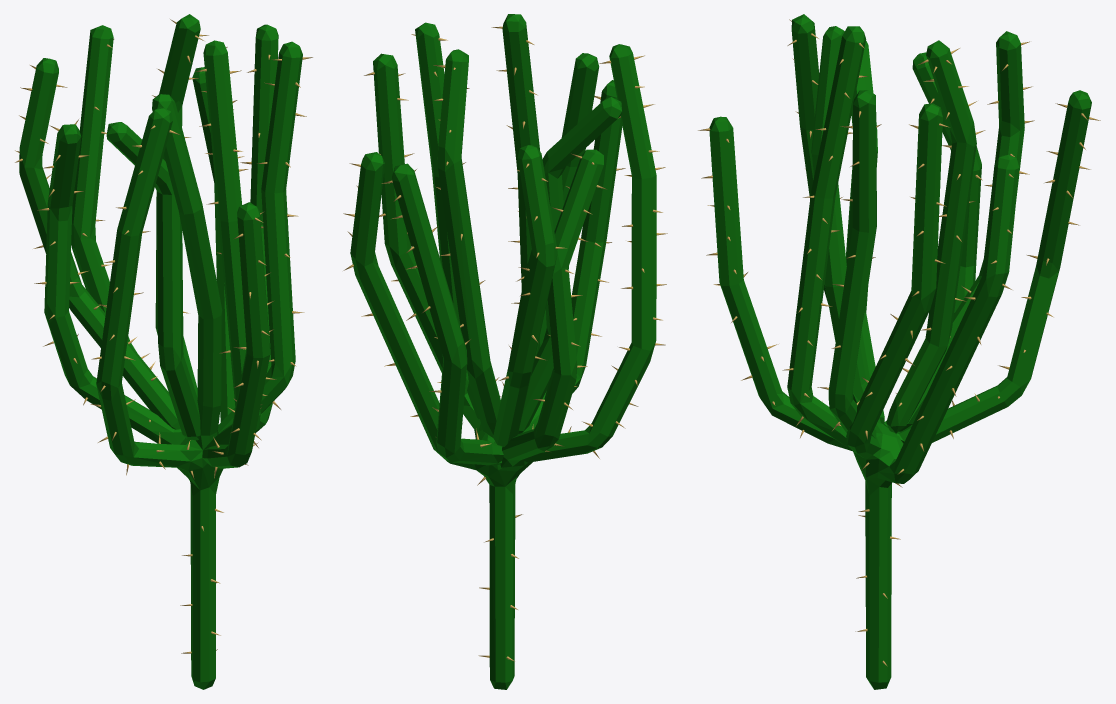
Rendered from Cactus8.fbx.
The picture shows the model from 3 angles, left to right: view 1: azimuth 30°, elevation 25°; view 2: azimuth 150°, elevation 25°; view 3: azimuth 270°, elevation 25°; orthographic projection.
Parts seen in each view (by area): view 1: Cactus8; view 2: Cactus8; view 3: Cactus8.
Boxes of the visible parts, x1=… form: Cactus8: x1=19, y1=14, x2=302, y2=689; Cactus8: x1=350, y1=14, x2=656, y2=689; Cactus8: x1=709, y1=14, x2=1091, y2=689.
Size of the model in its own units: 515 by 1336 by 738.
